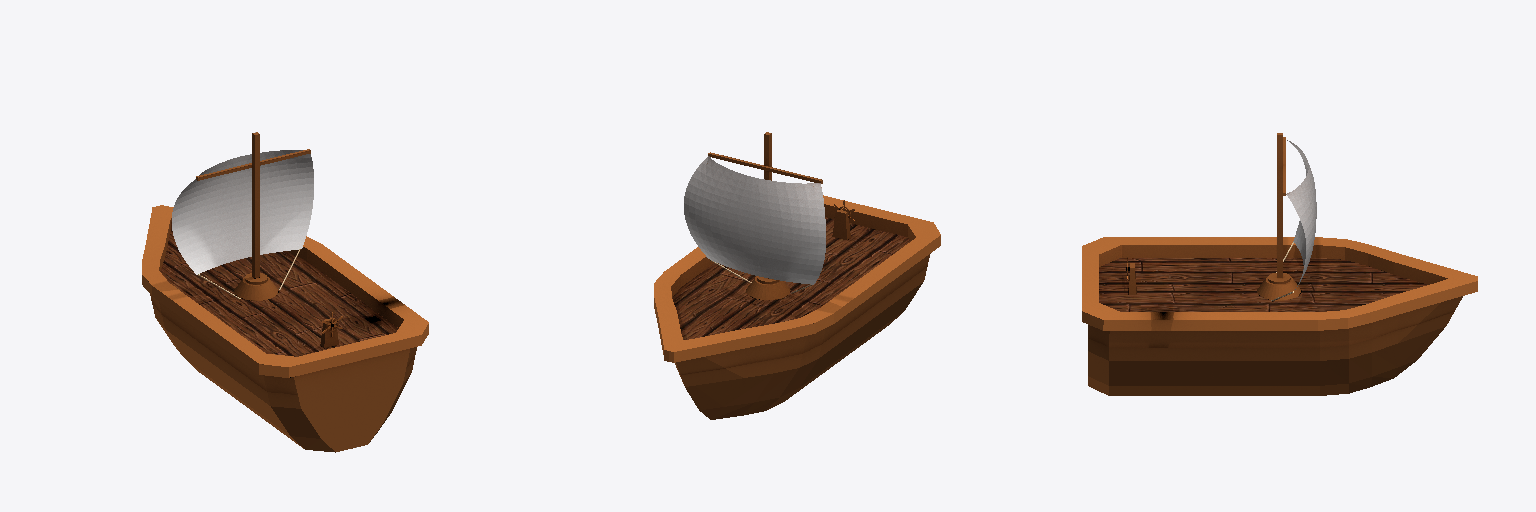
3 renders of one model, left to right at view 1: azimuth 30°, elevation 25°; view 2: azimuth 150°, elevation 25°; view 3: azimuth 270°, elevation 25°, orthographic.
Parts seen in each view (by area): view 1: Bateau_Plane.002; view 2: Bateau_Plane.002; view 3: Bateau_Plane.002.
Boxes of the visible parts, box(x1,y1,x2,y2) form: Bateau_Plane.002: box(142, 132, 428, 452); Bateau_Plane.002: box(654, 132, 940, 419); Bateau_Plane.002: box(1082, 133, 1477, 395).
Bounding box in the file's own units: 1.06 × 1.46 × 2.14.
1 materials, 1 textured.